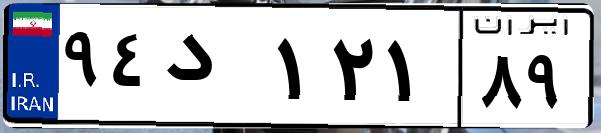1: (270, 28, 330, 110), (385, 28, 445, 110)
2: (330, 28, 385, 110)
4: (110, 28, 158, 98)
8: (475, 38, 525, 113)
9: (57, 26, 110, 100), (525, 38, 570, 115)
د: (158, 20, 270, 120)
